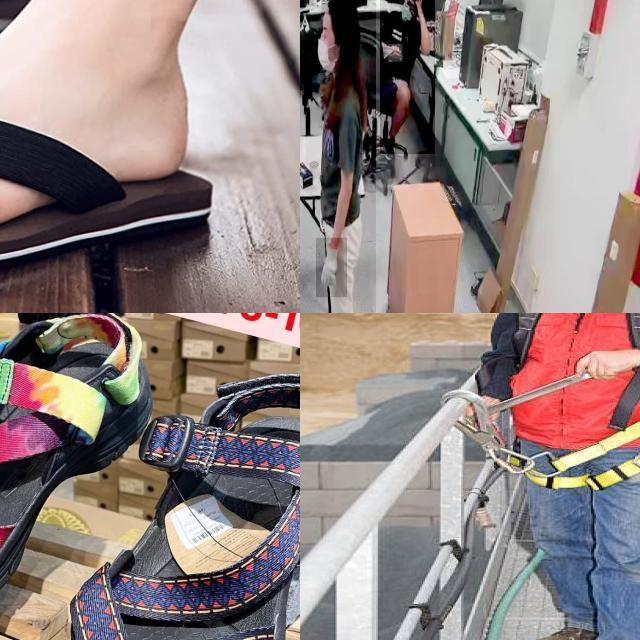Harness: (500, 313, 640, 494)
Sandals: (27, 356, 300, 640), (0, 313, 170, 640), (0, 49, 217, 264)
face_mask: (313, 28, 339, 73), (400, 1, 416, 31)
hand_glove: (316, 238, 348, 298)
hand_noglove: (388, 44, 403, 62), (413, 0, 422, 14)
head_nohelmet: (321, 0, 358, 15)
person: (300, 0, 376, 313), (380, 0, 435, 154)
